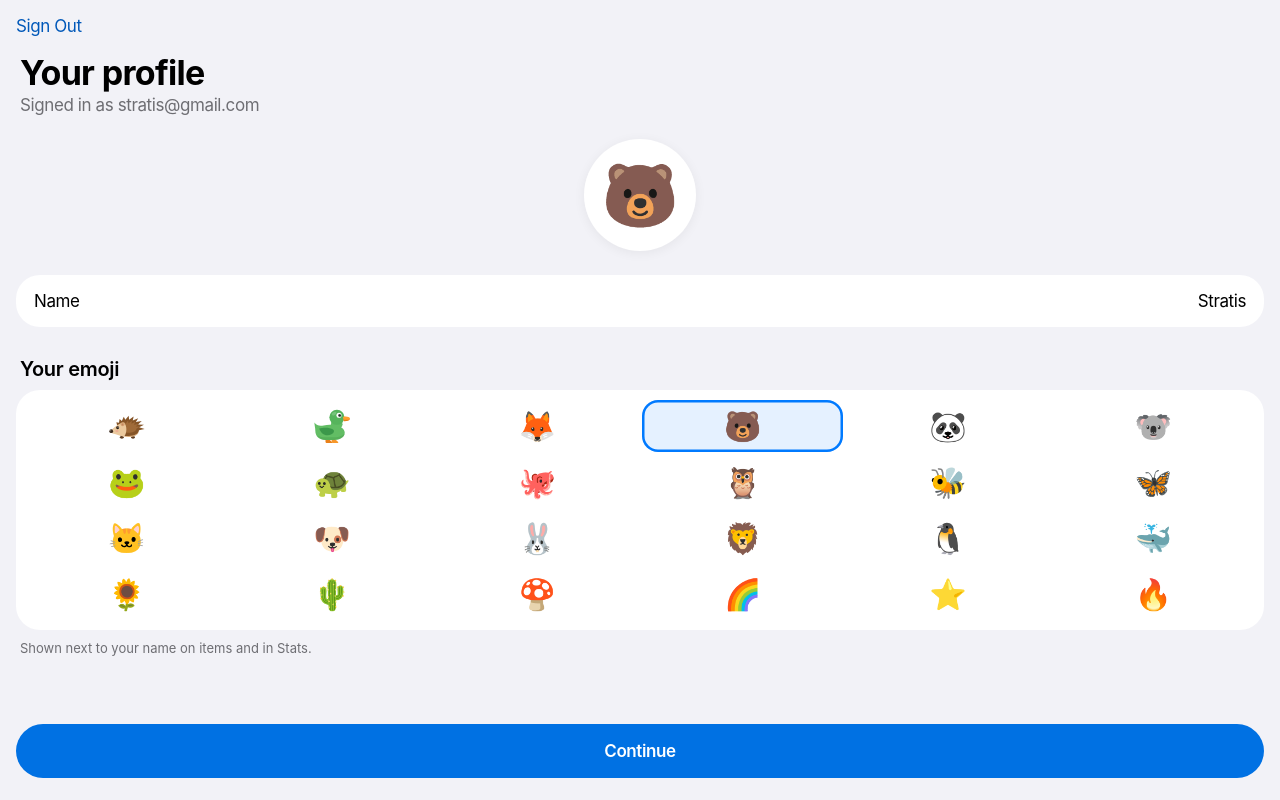
Test: Join: "Are you one of these people?" › picking one joins as them
The width and height of the screenshot is (1280, 800).
Later steps or results of the test are not shown.
expect the heading "Your profile" is shown: met, box 20,52 -> 205,93
Click the button "Continue" at x=640, y=751, box 16,724 -> 1264,778
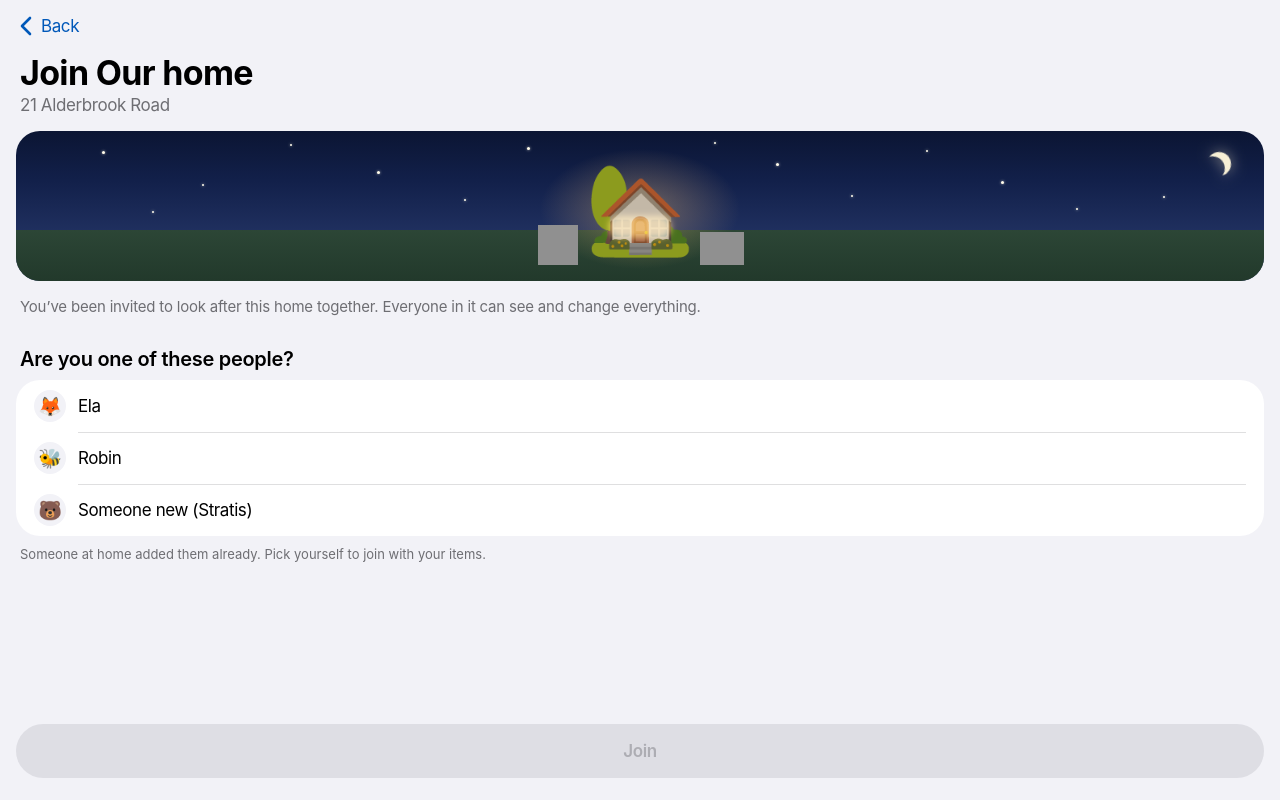
expect the heading "Join Our home" is shown: met, box 20,52 -> 253,93
Click the radio button labelled "🦊 Ela" at x=50, y=406, box 16,380 -> 1264,432
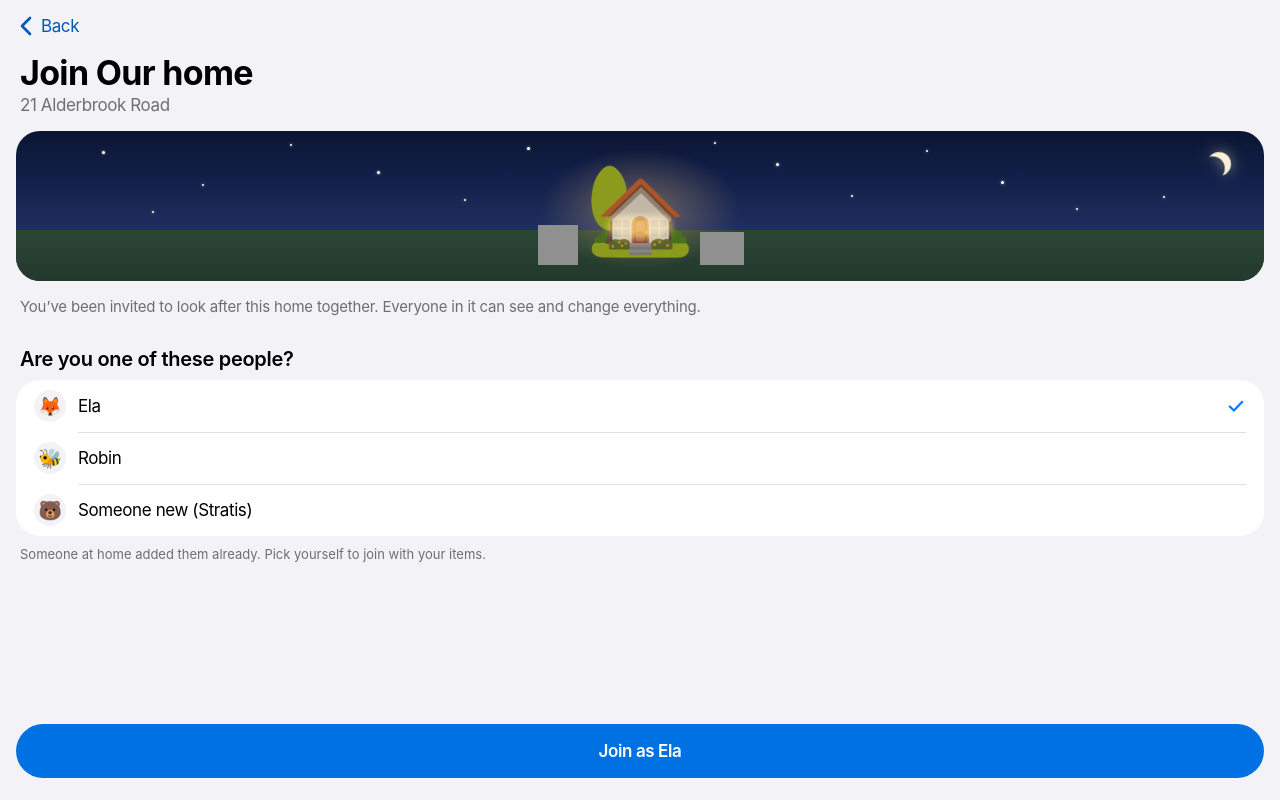
expect the radio button labelled "🦊 Ela" is checked: met, box 16,380 -> 1264,432
